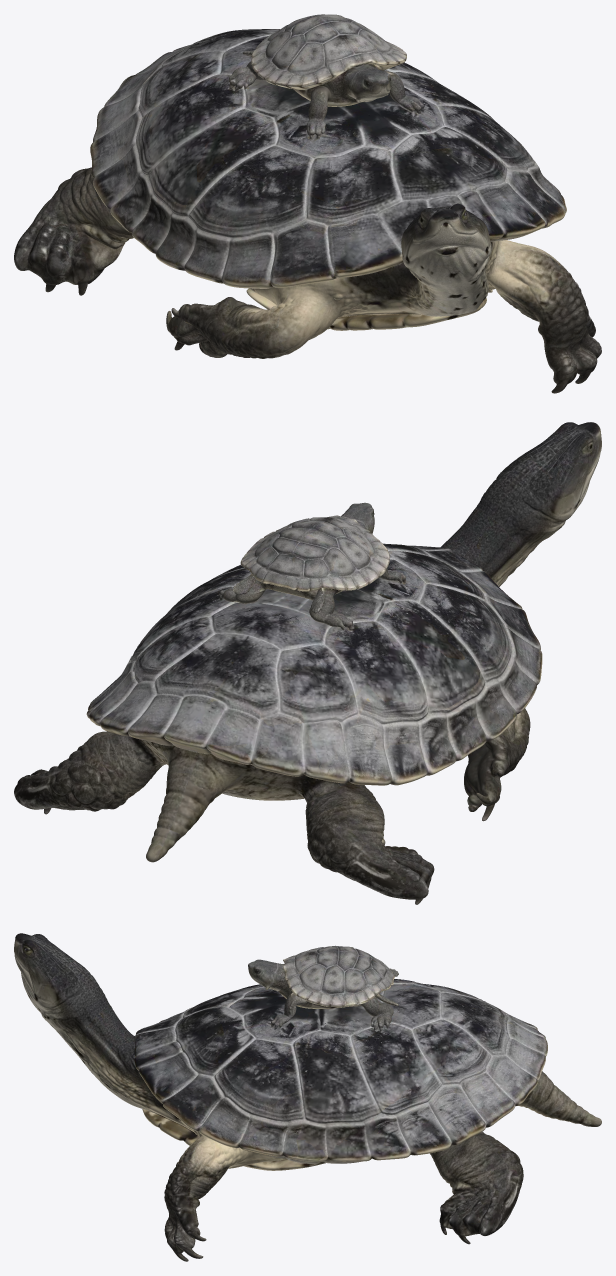
Rendered from tortuga.glb.
The picture shows the model from 3 angles, top to bottom: view 1: azimuth 30°, elevation 25°; view 2: azimuth 150°, elevation 25°; view 3: azimuth 270°, elevation 25°; orthographic projection. The views are drawn at different scales.
Size of the model in its own units: 1.24 by 0.9041 by 1.9.
Materials: 1 (1 with a texture image).
